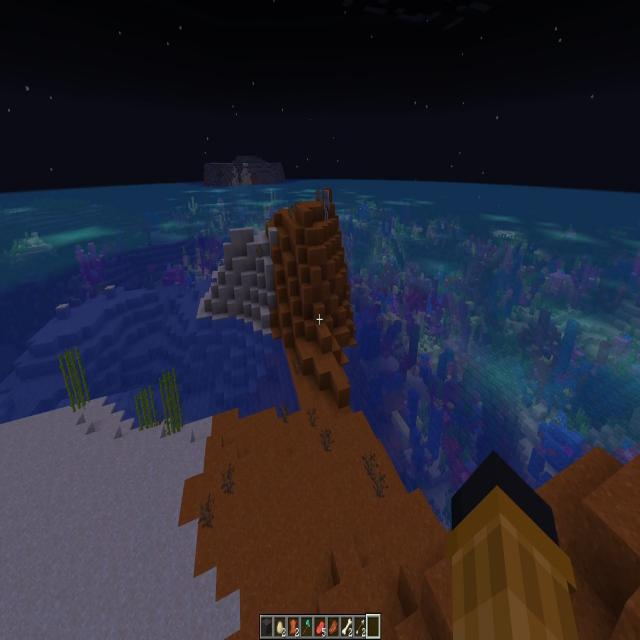Skeleton: (323, 189, 330, 220)
